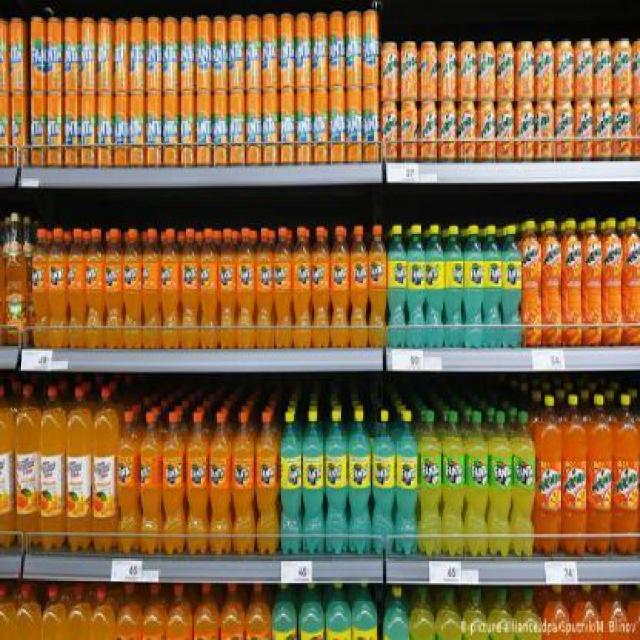Drinks: (465, 410, 490, 558), (418, 409, 442, 557), (441, 409, 465, 556), (278, 410, 302, 555), (324, 410, 348, 555), (372, 410, 396, 555), (348, 409, 372, 553), (490, 410, 513, 558), (513, 410, 536, 556), (185, 412, 208, 556), (231, 410, 254, 553), (396, 408, 418, 554), (256, 410, 278, 555), (139, 411, 161, 555), (162, 411, 184, 555), (302, 409, 324, 553), (208, 411, 230, 554), (118, 410, 139, 555), (406, 224, 426, 347), (426, 223, 446, 346), (463, 224, 483, 347), (502, 224, 522, 347), (292, 226, 312, 348), (48, 227, 68, 348), (86, 227, 106, 348), (122, 227, 142, 348), (199, 227, 219, 348), (310, 227, 330, 348), (329, 225, 349, 346), (349, 225, 369, 346), (445, 225, 464, 348), (483, 225, 502, 348), (142, 228, 161, 349), (218, 228, 237, 349), (273, 227, 292, 348), (368, 225, 387, 346), (388, 225, 406, 348), (68, 227, 86, 348), (105, 227, 123, 348), (162, 228, 180, 349), (181, 228, 199, 349), (255, 227, 273, 348), (31, 228, 49, 348), (238, 228, 255, 349), (8, 18, 28, 93), (278, 13, 296, 90), (212, 16, 230, 92), (328, 11, 346, 87), (244, 15, 262, 90), (328, 88, 346, 163), (212, 90, 230, 164), (262, 90, 280, 164), (278, 90, 296, 164), (10, 95, 28, 167), (30, 93, 48, 165), (30, 16, 47, 92), (64, 16, 81, 92), (179, 15, 196, 91), (195, 15, 212, 91), (346, 88, 363, 164), (47, 17, 64, 92), (80, 17, 97, 92), (97, 17, 114, 92), (113, 17, 130, 92), (129, 17, 146, 92), (229, 91, 246, 166), (363, 88, 380, 163), (129, 93, 146, 167), (195, 92, 212, 166), (245, 90, 262, 164), (47, 92, 64, 165), (362, 9, 378, 86), (262, 13, 278, 90), (346, 10, 362, 87), (64, 93, 81, 165), (80, 93, 97, 165), (97, 93, 114, 165), (113, 93, 130, 165), (146, 93, 163, 165), (162, 16, 178, 92), (296, 12, 312, 88), (312, 12, 328, 88), (179, 91, 195, 167), (146, 17, 162, 92), (296, 89, 312, 163), (312, 90, 328, 164), (163, 93, 179, 165), (230, 15, 245, 90)
